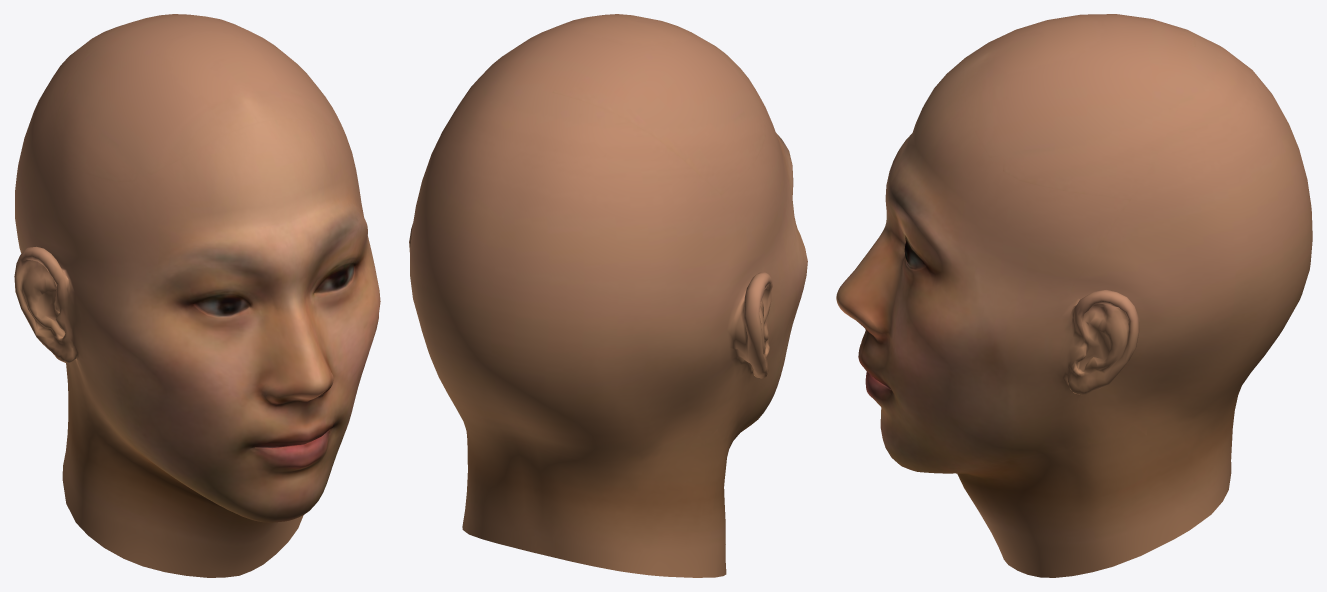
3 views of the same model, side by side, from view 1: azimuth 30°, elevation 25°; view 2: azimuth 150°, elevation 25°; view 3: azimuth 270°, elevation 25° (orthographic). The views are drawn at different scales.
Visible parts, largest first — view 1: HeadHires; view 2: HeadHires; view 3: HeadHires.
Part boxes in pixels (x1,y1,x2,y2): HeadHires: [14, 14, 380, 577]; HeadHires: [409, 14, 807, 577]; HeadHires: [836, 14, 1312, 577].
Bounding box in the file's own units: 189 × 283 × 233.
1 material, 1 textured.
